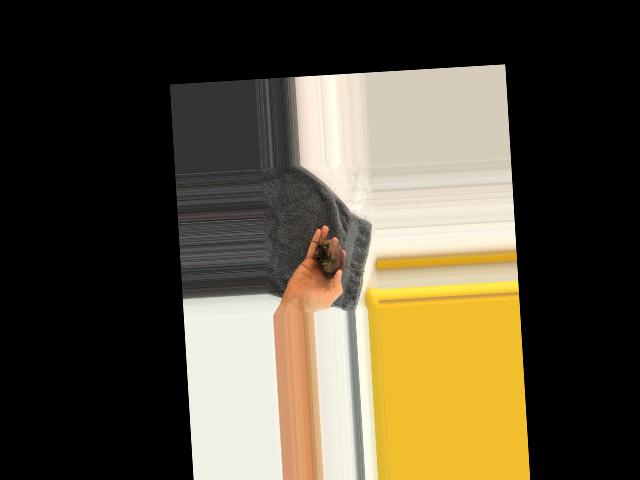beet: (313, 238, 365, 279)
